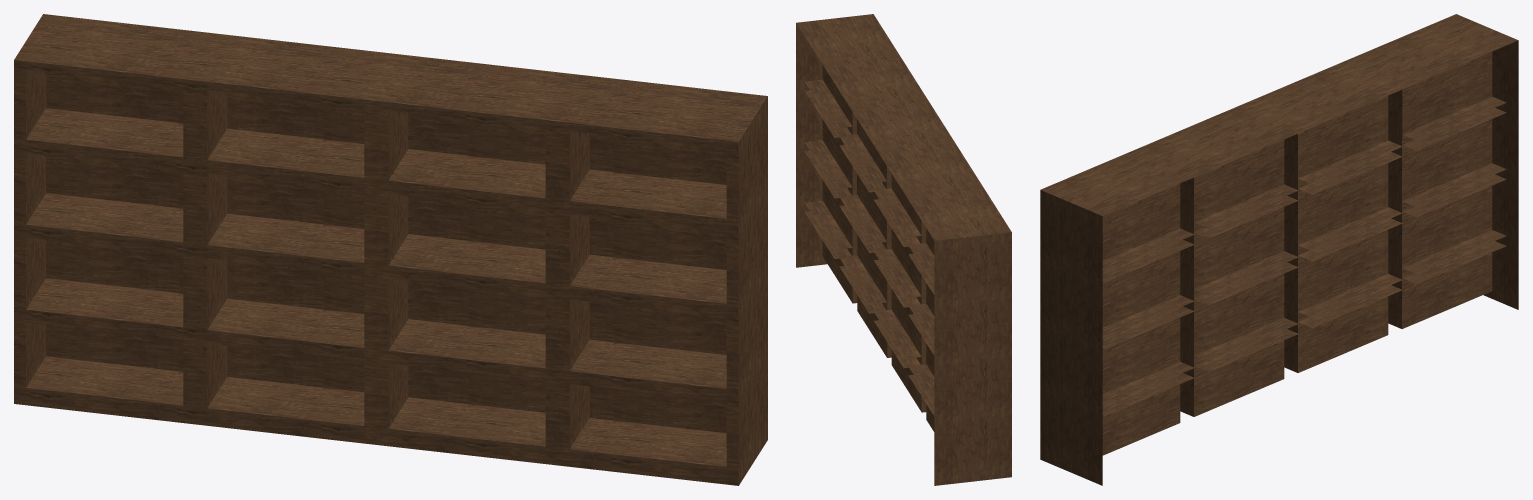
The model's file is ShelfUnit-transformed.glb.
The picture shows the model from 3 angles, left to right: view 1: azimuth 30°, elevation 25°; view 2: azimuth 150°, elevation 25°; view 3: azimuth 270°, elevation 25°; orthographic projection. The views are drawn at different scales.
Parts seen in each view (by area): view 1: Drawer-Cabinet_(Alternative); view 2: Drawer-Cabinet_(Alternative); view 3: Drawer-Cabinet_(Alternative).
Boxes of the visible parts, bbox=[...] form: Drawer-Cabinet_(Alternative): bbox=[14, 14, 767, 485]; Drawer-Cabinet_(Alternative): bbox=[796, 14, 1011, 485]; Drawer-Cabinet_(Alternative): bbox=[1040, 14, 1518, 485].
Size of the model in its own units: 1.63 by 1.01 by 1.63.
1 material, 1 textured.
